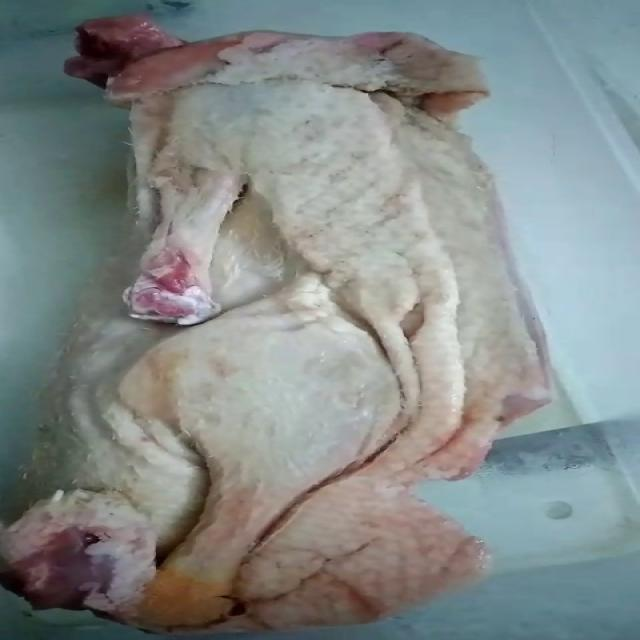chicken: (1, 12, 555, 634)
